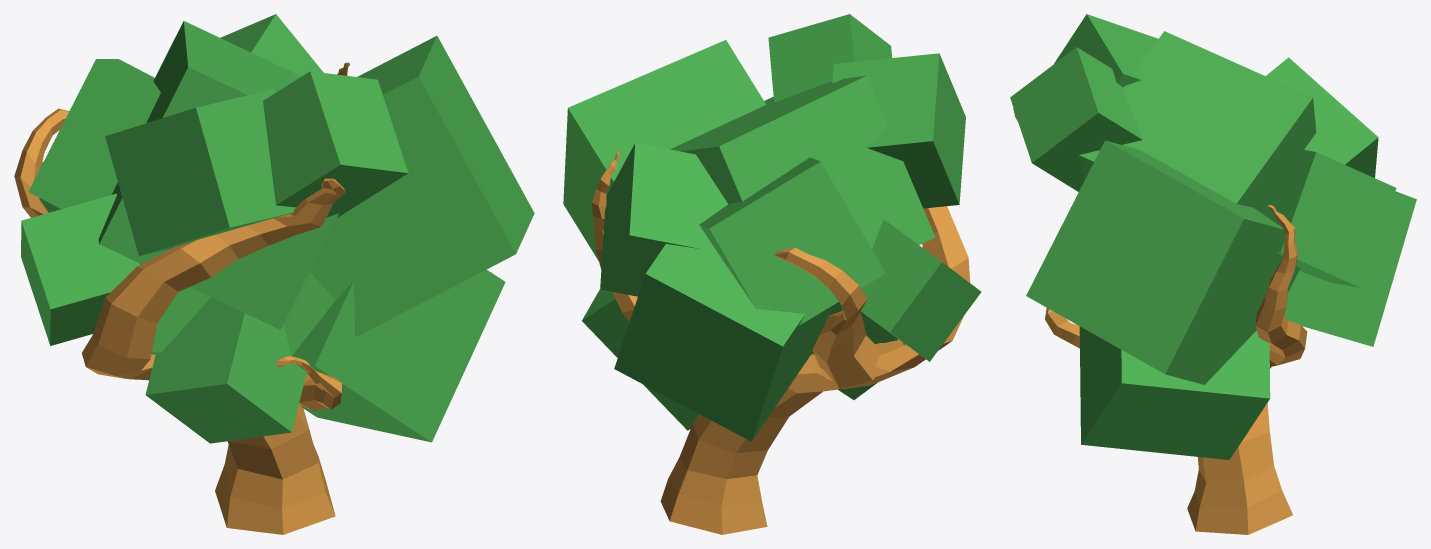
Rendered from Cube Bush by Tiff Eidmann - eKvNXY7L9AT.glb.
3 views of the same model, side by side, from view 1: azimuth 30°, elevation 25°; view 2: azimuth 150°, elevation 25°; view 3: azimuth 270°, elevation 25° (orthographic). The views are drawn at different scales.
Visible parts, largest first — view 1: group1927763980, group948243011, group1410024634, group1449450374, group1193978519, group1296928509, group382211664, group1983838612, group905881723, group2140221968, group418688293, group255455800 (+1 smaller); view 2: group553561798, group1193978519, group1927763980, group905881723, group948243011, group418688293, group1410024634, group1983838612, group382211664, group255455800, group1449450374, group1134450281 (+1 smaller); view 3: group1927763980, group1193978519, group1449450374, group418688293, group382211664, group948243011, group553561798, group905881723, group1134450281, group1410024634, group383561934.
Boxes of the visible parts, <box> form: group1927763980: <box>310,36,534,337</box>; group948243011: <box>82,178,345,534</box>; group1410024634: <box>105,89,295,255</box>; group1449450374: <box>292,269,505,442</box>; group1193978519: <box>98,21,338,329</box>; group1296928509: <box>145,297,306,443</box>; group382211664: <box>263,71,408,217</box>; group1983838612: <box>21,193,139,345</box>; group905881723: <box>28,59,160,208</box>; group2140221968: <box>140,264,335,355</box>; group418688293: <box>220,14,323,76</box>; group255455800: <box>14,108,155,356</box>; group553561798: <box>614,244,831,441</box>; group1193978519: <box>670,75,935,248</box>; group1927763980: <box>563,40,766,260</box>; group905881723: <box>699,157,885,325</box>; group948243011: <box>660,206,970,534</box>; group418688293: <box>600,143,727,296</box>; group1410024634: <box>832,53,965,208</box>; group1983838612: <box>861,219,981,361</box>; group382211664: <box>768,14,892,102</box>; group255455800: <box>775,247,882,389</box>; group1449450374: <box>582,289,698,430</box>; group1134450281: <box>592,150,637,321</box>; group1927763980: <box>1026,140,1300,384</box>; group1193978519: <box>1079,31,1316,207</box>; group1449450374: <box>1079,326,1270,459</box>; group418688293: <box>1253,146,1396,287</box>; group382211664: <box>1010,47,1142,191</box>; group948243011: <box>1013,107,1292,534</box>; group553561798: <box>1284,191,1416,346</box>; group905881723: <box>1266,57,1378,177</box>; group1134450281: <box>1255,205,1307,368</box>; group1410024634: <box>1054,14,1158,87</box>; group383561934: <box>1045,308,1079,348</box>.
Size of the model in its own units: 1.11 by 1.16 by 0.9513.
